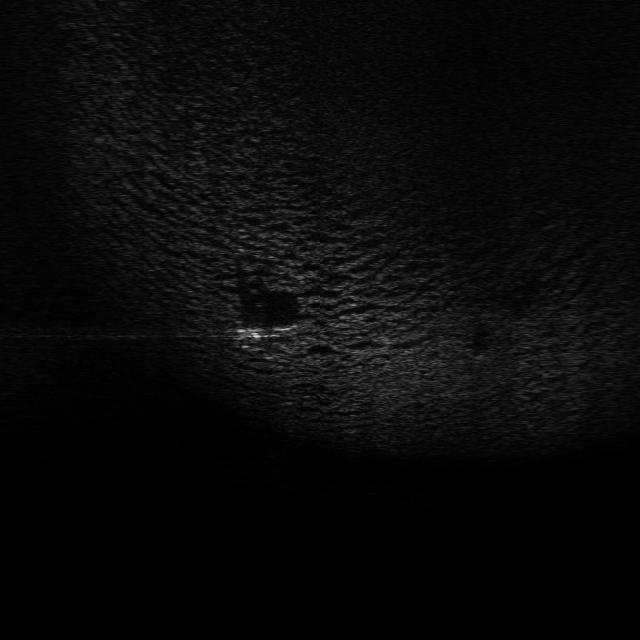plane: (229, 322, 297, 346)
